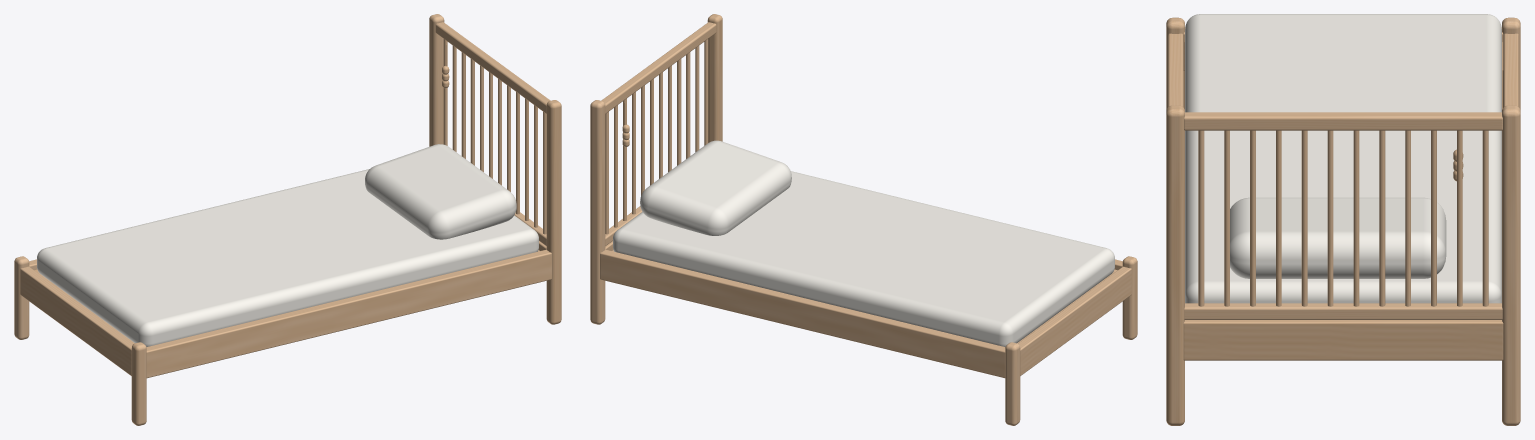
Rendered from oak_youth_bed.glb.
The picture shows the model from 3 angles, left to right: view 1: azimuth 30°, elevation 25°; view 2: azimuth 150°, elevation 25°; view 3: azimuth 270°, elevation 25°; orthographic projection. The views are drawn at different scales.
Visible parts, largest first — view 1: Ivory mattress, Long lower apron, Ivory pillow, Head post (×2), End lower apron, Low foot post (×2), End upper guard rail, End spindle 1 01, End spindle 1 02, End spindle 1 03; view 2: Ivory mattress, Long lower apron, Ivory pillow, Head post (×2), End lower apron, Low foot post (×2), End upper guard rail, End spindle 1 09, End spindle 1 10, End spindle 1 08, End spindle 1 11; view 3: Ivory mattress, Ivory pillow, End lower apron, Head post (×2), End upper guard rail, End lower guard rail, Long lower apron (×2), End spindle 1 00, End spindle 1 11, End spindle 1 05, End spindle 1 06, End spindle 1 04 (+8 smaller).
Boxes of the visible parts, x1,y1,x2,y2 form: Ivory mattress: [37, 169, 538, 346]; Long lower apron: [146, 249, 551, 378]; Ivory pillow: [365, 144, 516, 239]; Head post (×2): [429, 14, 561, 324]; End lower apron: [20, 266, 133, 375]; Low foot post (×2): [14, 256, 146, 425]; End upper guard rail: [435, 22, 550, 113]; End spindle 1 01: [452, 45, 456, 151]; End spindle 1 02: [461, 52, 465, 158]; End spindle 1 03: [470, 59, 474, 165]; Ivory mattress: [613, 171, 1114, 346]; Long lower apron: [600, 249, 1005, 378]; Ivory pillow: [640, 140, 791, 235]; Head post (×2): [590, 14, 722, 324]; End lower apron: [1018, 266, 1131, 375]; Low foot post (×2): [1005, 256, 1137, 425]; End upper guard rail: [601, 22, 716, 113]; End spindle 1 09: [686, 52, 690, 158]; End spindle 1 10: [695, 45, 699, 151]; End spindle 1 08: [677, 59, 681, 165]; End spindle 1 11: [704, 39, 708, 145]; Ivory mattress: [1185, 14, 1501, 303]; Ivory pillow: [1230, 197, 1446, 278]; End lower apron: [1183, 320, 1503, 360]; Head post (×2): [1166, 105, 1520, 425]; End upper guard rail: [1184, 112, 1502, 130]; End lower guard rail: [1184, 303, 1502, 319]; Long lower apron (×2): [1168, 33, 1518, 106]; End spindle 1 00: [1482, 130, 1488, 306]; End spindle 1 11: [1198, 130, 1204, 306]; End spindle 1 05: [1353, 130, 1359, 306]; End spindle 1 06: [1327, 130, 1333, 306]; End spindle 1 04: [1379, 130, 1385, 306].
Bounding box in the file's own units: 2.06 × 1.02 × 1.04.
